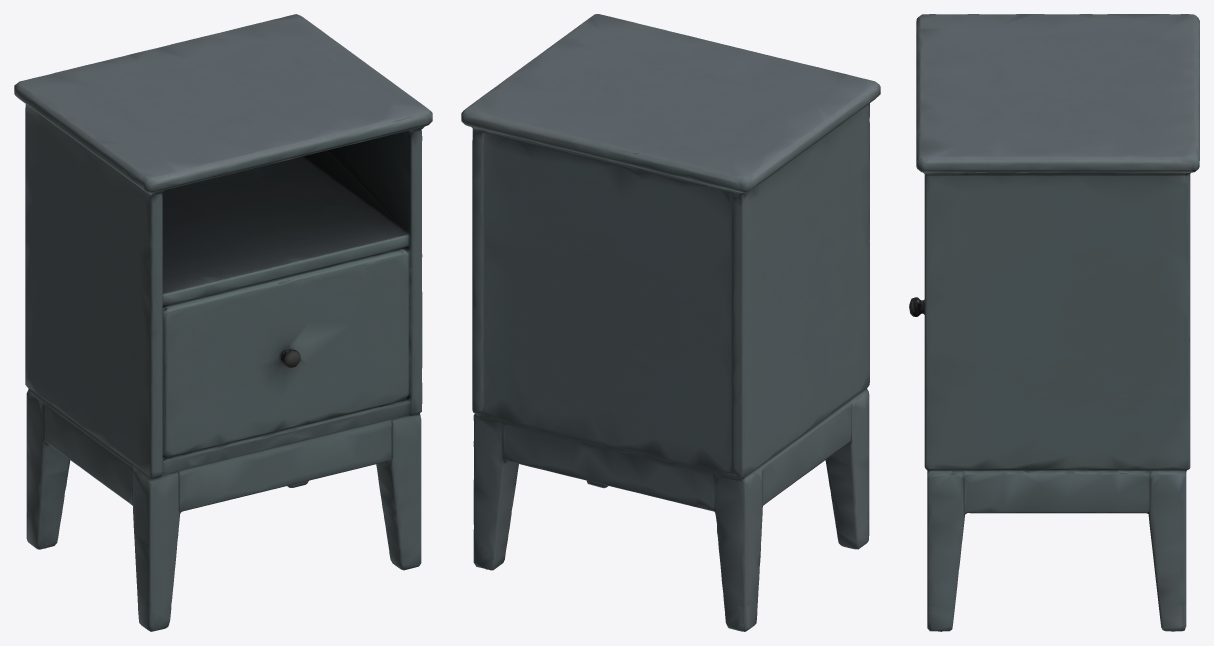
Rendered from Meshy_AI_White_Nightstand_0107201039_texture.fbx.
The picture shows the model from 3 angles, left to right: view 1: azimuth 30°, elevation 25°; view 2: azimuth 150°, elevation 25°; view 3: azimuth 270°, elevation 25°; orthographic projection. The views are drawn at different scales.
Visible parts, largest first — view 1: Mesh_0; view 2: Mesh_0; view 3: Mesh_0.
Boxes of the visible parts, left/top/right/bottom form: Mesh_0: left=14, top=14, right=432, bottom=631; Mesh_0: left=461, top=14, right=880, bottom=631; Mesh_0: left=909, top=14, right=1199, bottom=631.
Size of the model in its own units: 125 by 191 by 105.
Materials: 1 (1 with a texture image).
